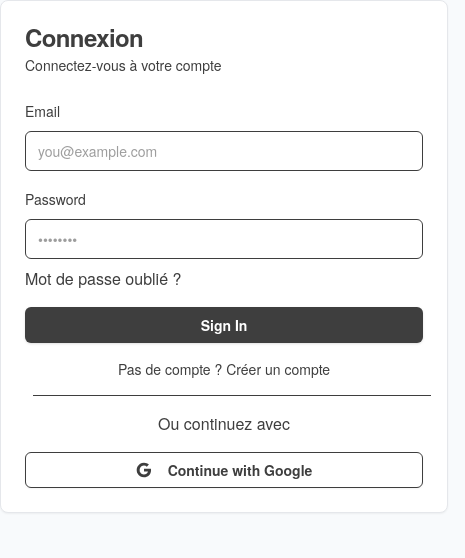
SignInForm › should validate password length
This screenshot has width=465, height=558.
Type "test@example.com" into the field labelled "Email" at (224, 151), box top-left (25, 131), bottom-right (423, 171)
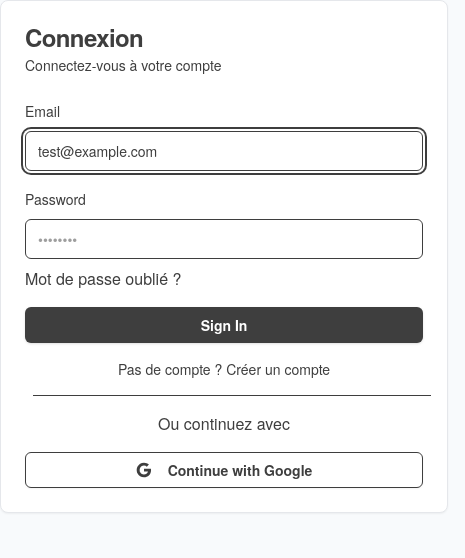
Type "short" into the password field labelled "Password" at (224, 239), box top-left (25, 219), bottom-right (423, 259)
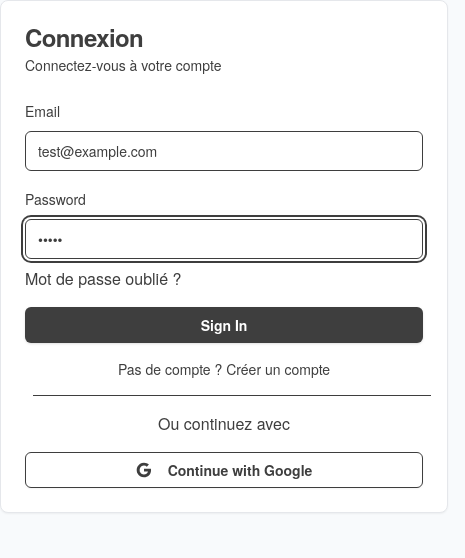
Click the button "Sign In" at (224, 325), box top-left (25, 307), bottom-right (423, 343)
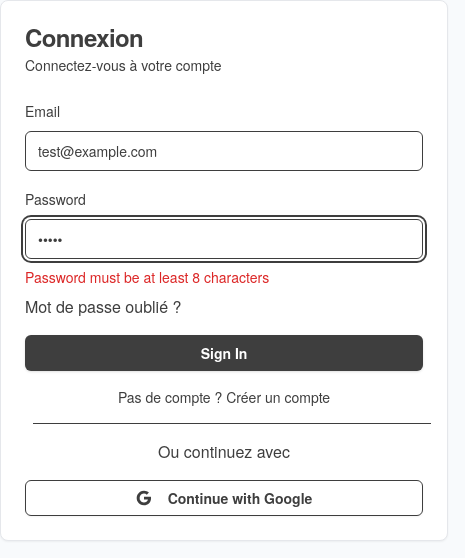
Expected: the text "Password must be at least 8 characters" is shown, top-left (25, 267), bottom-right (269, 287)
